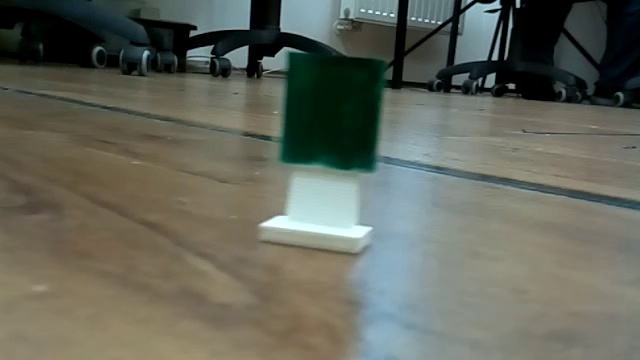rect: (235, 47, 415, 269)
